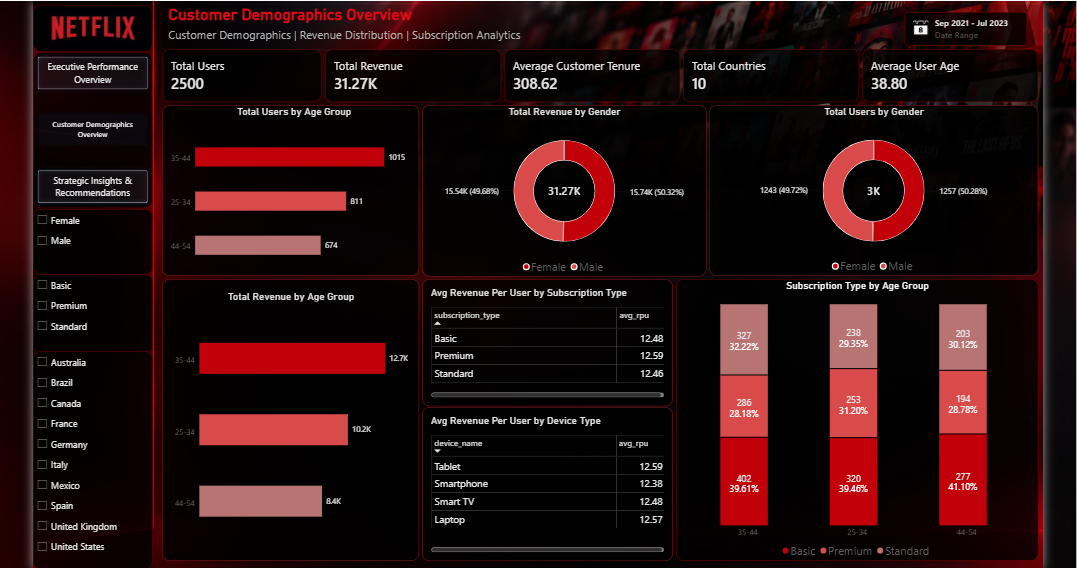

The page's visual inventory and layout, read from the dashboard file:
{"tool":"powerbi","page":{"name":"Customer Demographics Overview","canvas":[1920,1080],"ordinal":1},"visuals":[{"type":"cardVisual","title":"Total Revenue","fields":{"Data":["measures (2).total_revenue"]},"box":[554.9,91.4,335,101],"z":0},{"type":"cardVisual","title":"Average Customer Tenure","fields":{"Data":["Avg(netflix_db netflix_user_base.customer_tenure)"]},"box":[895,91.4,335,101],"z":1000},{"type":"cardVisual","title":"Total Countries","fields":{"Data":["measures (2).number_of_countries"]},"box":[1235.2,91.4,335,101],"z":2000},{"type":"slicer","title":"Gender","fields":{"Values":["netflix_db gender_table.gender"]},"box":[0,395,228.2,125],"z":3000},{"type":"slicer","title":"Subscription Type ","fields":{"Values":["netflix_db subscription_table.subscription_type"]},"box":[0,520,228.2,152],"z":4000},{"type":"slicer","title":"Country Name","fields":{"Values":["netflix_db country_table.country_name"]},"box":[0,666,228.2,414.5],"z":5000},{"type":"textbox","title":"Customer Demographics Overview","box":[245.3,7.6,1671.3,83.7],"z":6000},{"type":"cardVisual","title":"    Total Users","fields":{"Data":["measures (2).total_users"]},"box":[245.3,91.3,303,101],"z":7000},{"type":"cardVisual","title":"Average User Age","fields":{"Data":["measures (2).avg_user_age"]},"box":[1575.4,91.4,335,101],"z":8000},{"type":"pageNavigator","box":[0,97,227,297],"z":9000},{"type":"clusteredBarChart","title":"Total Users by Age Group ","fields":{"Category":["netflix_db netflix_user_base.age group"],"Y":["measures (2).total_users"]},"box":[245.3,197.7,489,325],"z":10000},{"type":"barChart","title":"Total Revenue by Age Group","fields":{"Category":["netflix_db netflix_user_base.age group"],"Y":["measures (2).total_revenue"]},"box":[245.3,528.6,489,536.2],"z":11000},{"type":"donutChart","title":"Total Users by Gender","fields":{"Category":["netflix_db gender_table.gender"],"Y":["measures (2).total_users"]},"box":[1285.4,197.7,626,325],"z":12000},{"type":"donutChart","title":"Total Revenue by Gender","fields":{"Category":["netflix_db gender_table.gender"],"Y":["measures (2).total_revenue"]},"box":[739.8,197.7,541,326],"z":13000},{"type":"hundredPercentStackedColumnChart","title":"Subscription Type by Age Group ","fields":{"Category":["netflix_db netflix_user_base.age group"],"Series":["netflix_db subscription_table.subscription_type"],"Y":["measures (2).total_users"]},"box":[1222.4,529.4,688.8,535.7],"z":14000},{"type":"tableEx","title":"Avg Revenue Per User by Subscription Type","fields":{"Values":["netflix_db subscription_table.subscription_type","measures (2).avg_rpu"]},"box":[739.8,529.4,477,242.4],"z":15000},{"type":"tableEx","title":"Avg Revenue Per User by Device Type","fields":{"Values":["netflix_db device_table.device_name","measures (2).avg_rpu"]},"box":[739.8,771.7,477,293.4],"z":16000},{"type":"cardVisual","fields":{"Data":["measures (2).Date Range"]},"box":[1656.1,21.3,233.9,63.8],"z":17000},{"type":"image","box":[0,8.5,227.5,89.3],"z":17001}]}

Visuals, with their boxes on the page's 1920x1080 design canvas (x1, y1, x2, y2). These are canvas units, not pixel positions in the 1077x568 screenshot, which may show the page scaled, cropped or inside an application window:
"Total Revenue" cardVisual: detection(555, 91, 890, 192)
"Average Customer Tenure" cardVisual: detection(895, 91, 1230, 192)
"Total Countries" cardVisual: detection(1235, 91, 1570, 192)
"Gender" slicer: detection(0, 395, 228, 520)
"Subscription Type " slicer: detection(0, 520, 228, 672)
"Country Name" slicer: detection(0, 666, 228, 1080)
"Customer Demographics Overview" textbox: detection(245, 8, 1917, 91)
"    Total Users" cardVisual: detection(245, 91, 548, 192)
"Average User Age" cardVisual: detection(1575, 91, 1910, 192)
pageNavigator: detection(0, 97, 227, 394)
"Total Users by Age Group " clusteredBarChart: detection(245, 198, 734, 523)
"Total Revenue by Age Group" barChart: detection(245, 529, 734, 1065)
"Total Users by Gender" donutChart: detection(1285, 198, 1911, 523)
"Total Revenue by Gender" donutChart: detection(740, 198, 1281, 524)
"Subscription Type by Age Group " hundredPercentStackedColumnChart: detection(1222, 529, 1911, 1065)
"Avg Revenue Per User by Subscription Type" tableEx: detection(740, 529, 1217, 772)
"Avg Revenue Per User by Device Type" tableEx: detection(740, 772, 1217, 1065)
cardVisual - measures (2).Date Range: detection(1656, 21, 1890, 85)
image: detection(0, 8, 228, 98)
